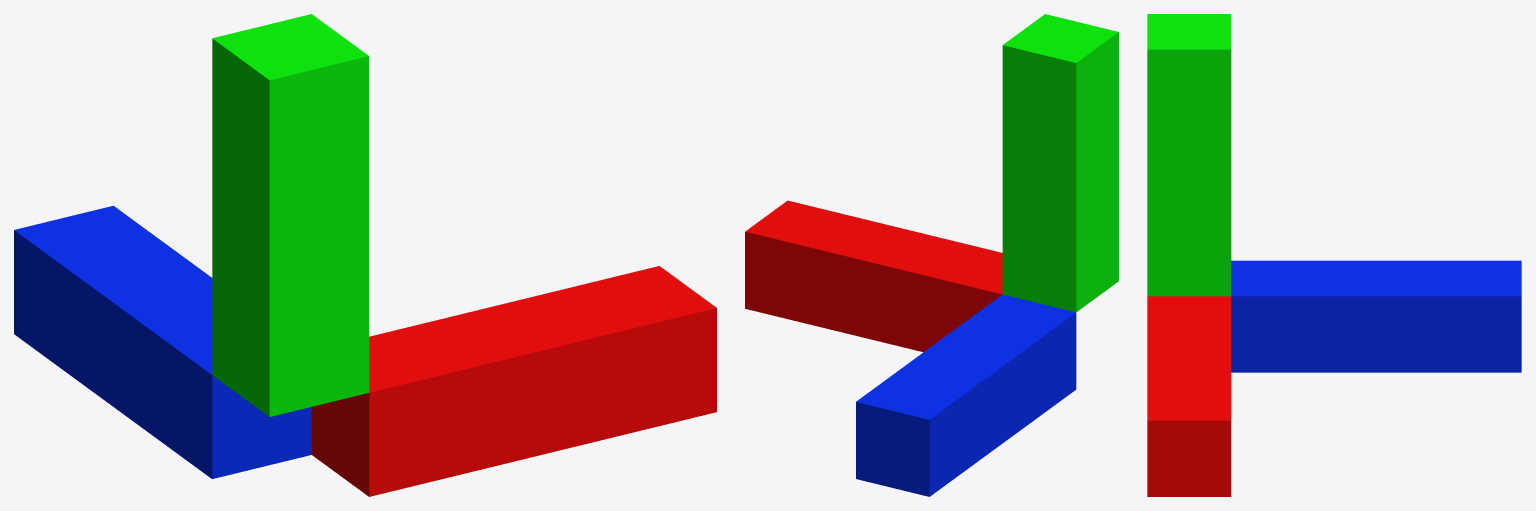
Rendered from axis.gltf.
3 views of the same model, side by side, from view 1: azimuth 30°, elevation 25°; view 2: azimuth 150°, elevation 25°; view 3: azimuth 270°, elevation 25° (orthographic). The views are drawn at different scales.
Visible parts, largest first — view 1: 立方体; view 2: 立方体; view 3: 立方体.
Part boxes in pixels (bbox=[...]): 立方体: bbox=[14, 14, 716, 496]; 立方体: bbox=[745, 14, 1118, 496]; 立方体: bbox=[1147, 14, 1521, 496].
Size of the model in its own units: 3.07 by 2.89 by 3.04.
Materials: 1 (1 with a texture image).
